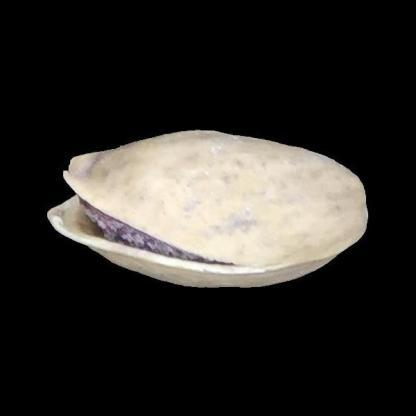pistachio: (38, 121, 372, 305)
